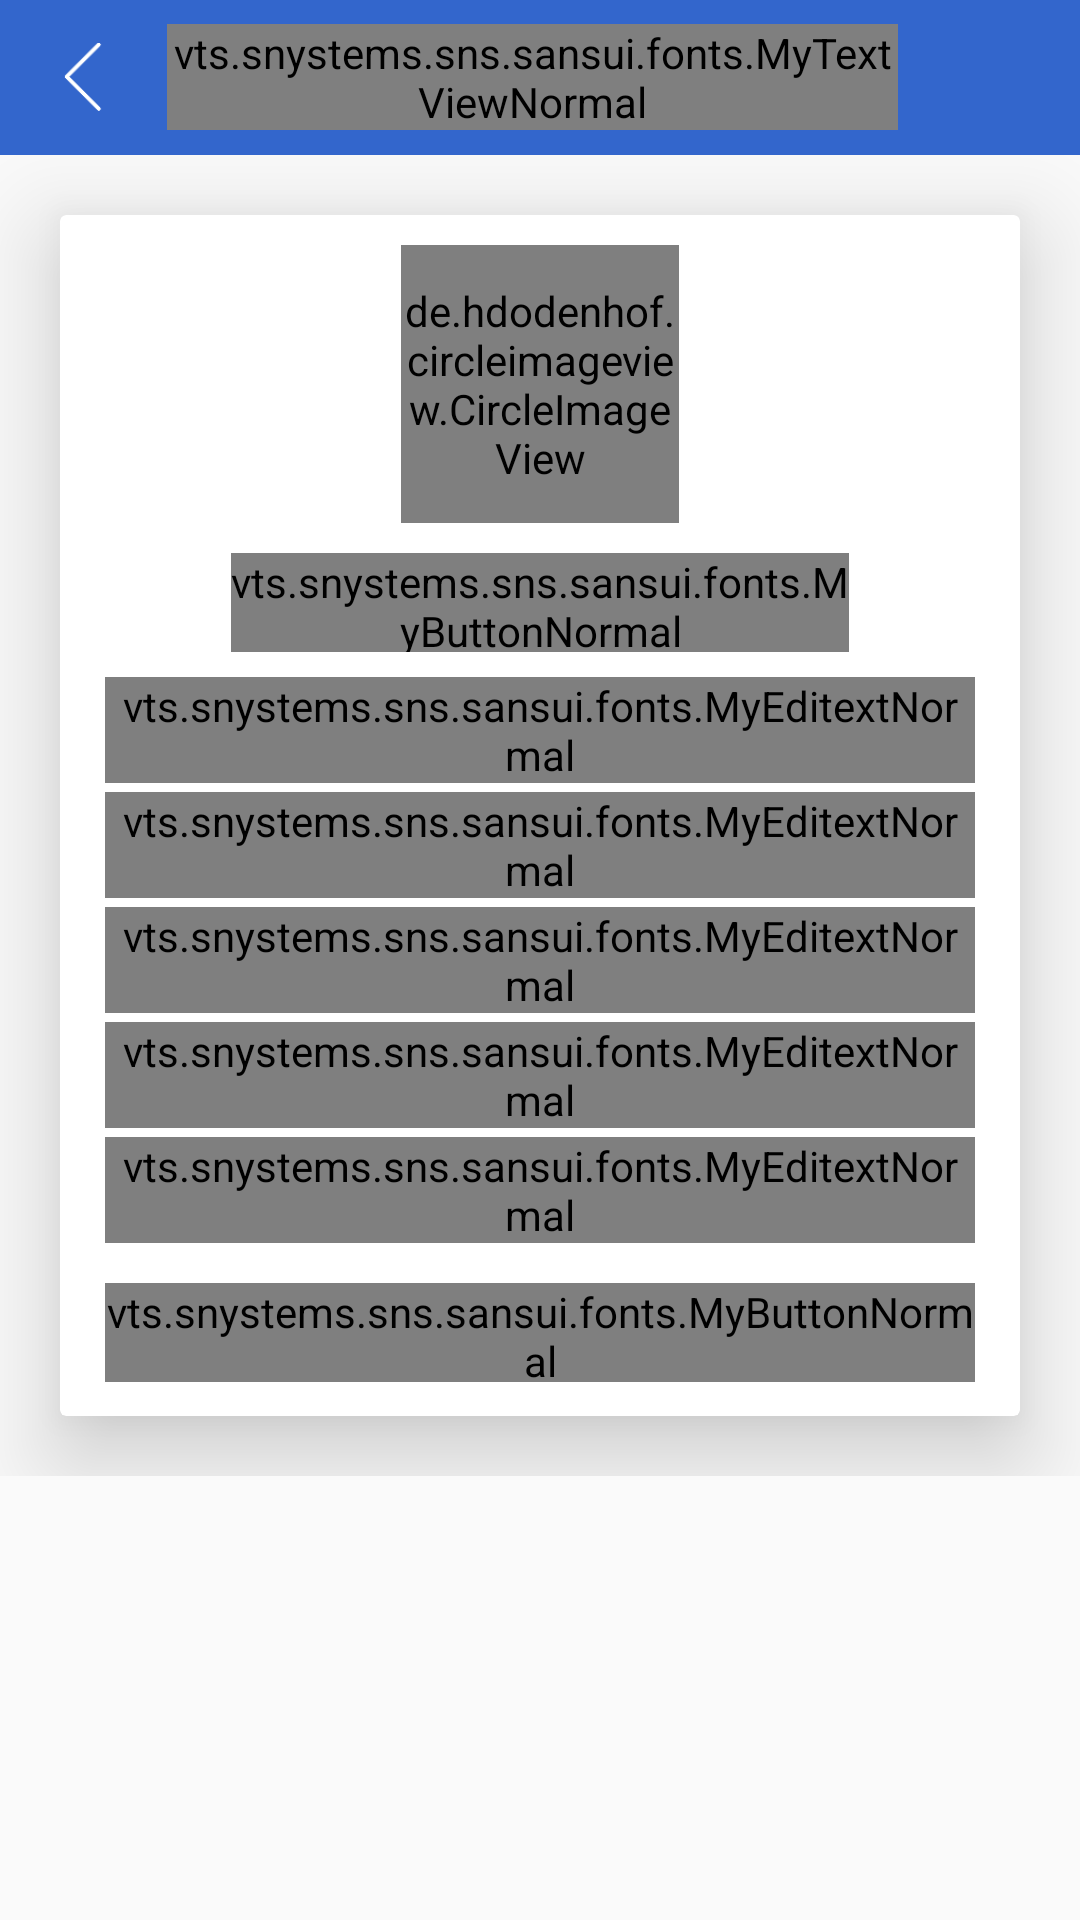

Icons on this 1080px×1920px Android screen, each with its box as bbox(x1, y1, x2, y2):
back: bbox(65, 43, 101, 111)
